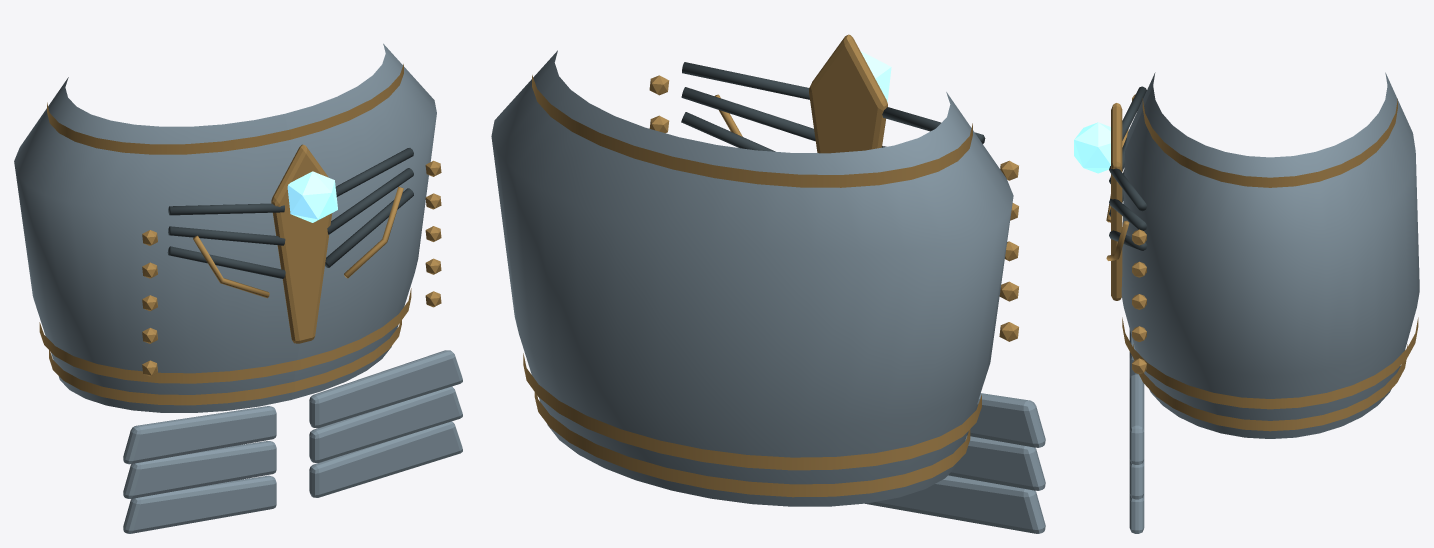
Rendered from WarriorArmor.glb.
3 renders of one model, left to right at view 1: azimuth 30°, elevation 25°; view 2: azimuth 150°, elevation 25°; view 3: azimuth 270°, elevation 25°, orthographic. The views are drawn at different scales.
Visible parts, largest first — view 1: Model; view 2: Model; view 3: Model.
Boxes of the visible parts, <box> form: Model: <box>14,43,462,533</box>; Model: <box>491,34,1045,533</box>; Model: <box>1074,72,1419,533</box>.
Bounding box in the file's own units: 0.56 × 0.5165 × 0.4278.
